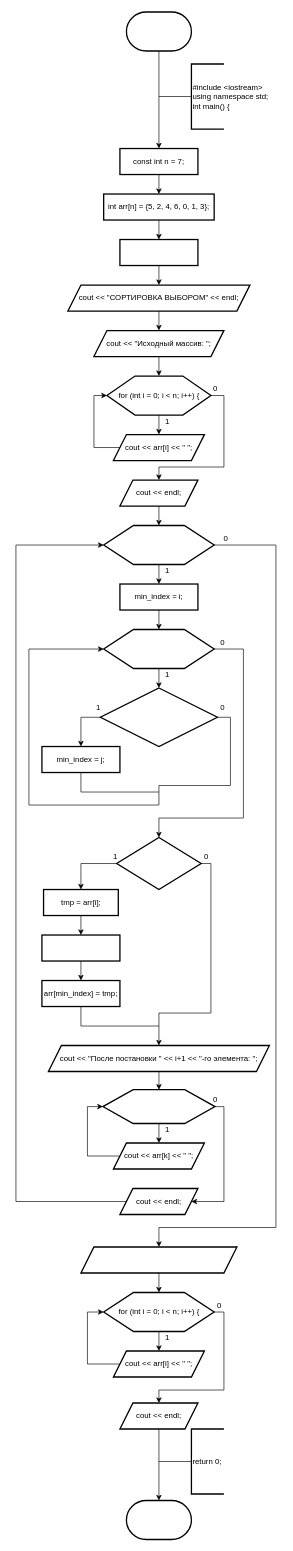
This 293x1551 diagram has some shape labels left out. Each missing label, with the centre of its shape:
arr[i] = arr[min_index];: pixel 80 947
cout << "Отсортированный массив: ";: pixel 158 1259
for (int i = 0; i < n-1; i++) {: pixel 158 545
for (int j = i+1; j < n; j++) {: pixel 158 649
for (int k = 0; k < n; k++) {: pixel 158 1106
if (arr[j] < arr[min_index]) {: pixel 158 717
if (min_index != i) {: pixel 159 863
int tmp, min_index;: pixel 158 252
Конец: pixel 158 1520
Начало: pixel 158 31
